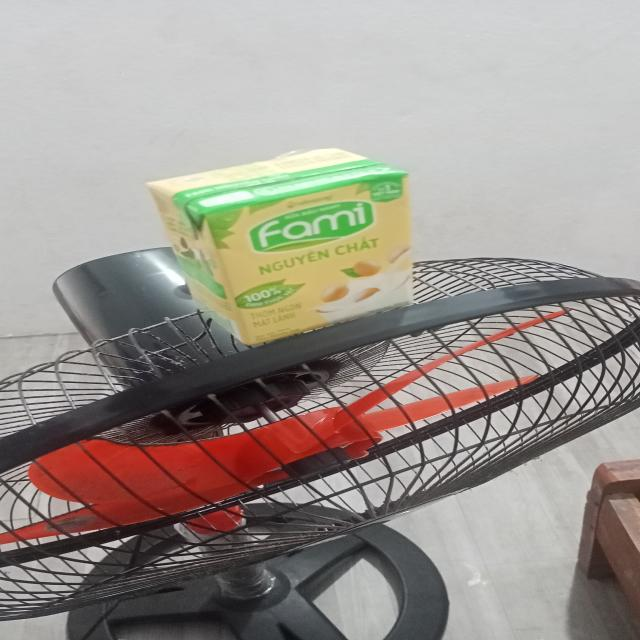Fami: (144, 146, 420, 348)
